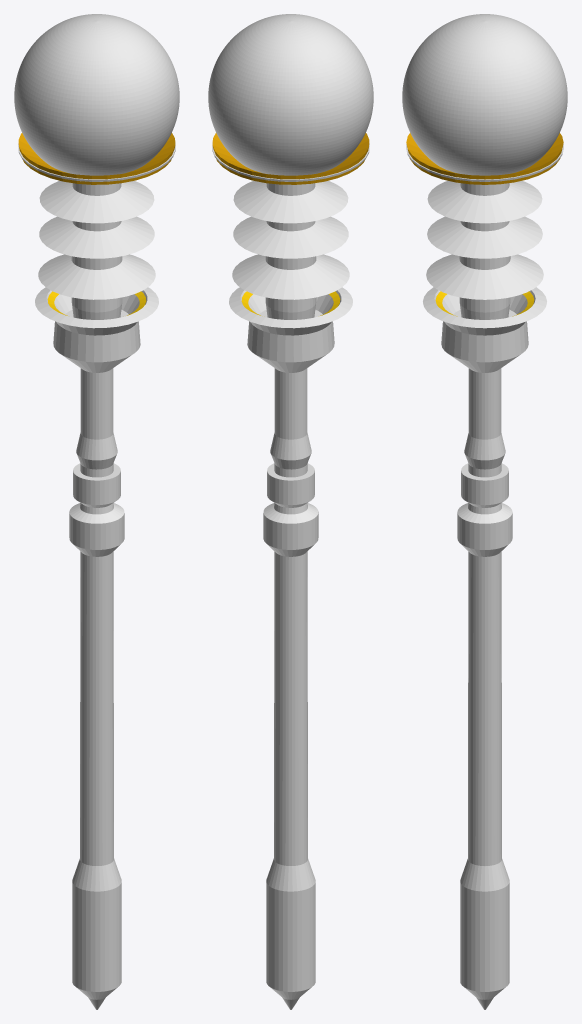
File: Baculo.fbx
3 views of the same model, side by side, from view 1: azimuth 30°, elevation 25°; view 2: azimuth 150°, elevation 25°; view 3: azimuth 270°, elevation 25° (orthographic).
Parts seen in each view (by area): view 1: Cylinder, Sphere; view 2: Cylinder, Sphere; view 3: Cylinder, Sphere.
Part boxes in pixels (box(x1,y1,x2,y2)): Cylinder: box(18, 133, 175, 1009); Sphere: box(14, 14, 179, 175); Cylinder: box(212, 133, 369, 1009); Sphere: box(208, 14, 373, 175); Cylinder: box(406, 133, 563, 1009); Sphere: box(402, 14, 567, 175).
Bounding box in the file's own units: 300 × 1977 × 300.
